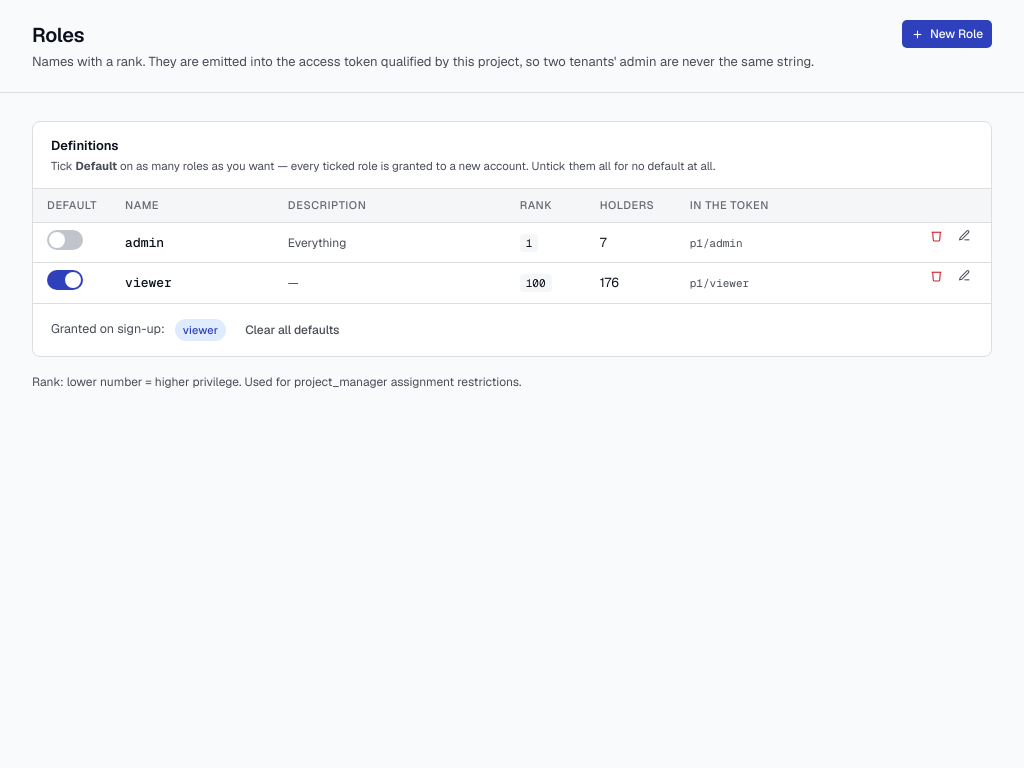
Test: creating a role › normalises the name the way the backend stores it
Expected: the text "admin" is shown, [125,234,164,251]
Click the button "New Role". click: (947, 34)
box: [902,20,992,48]
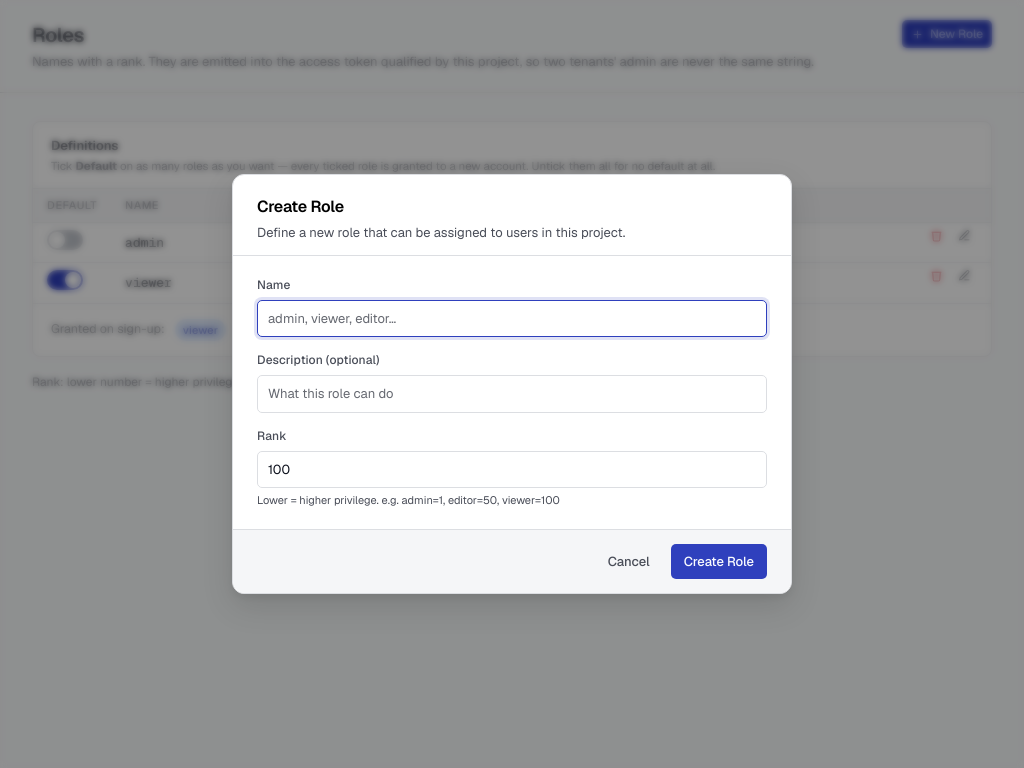
Type "Content Editor" into the field labelled "Name". click: (512, 318)
box: [257,300,767,337]
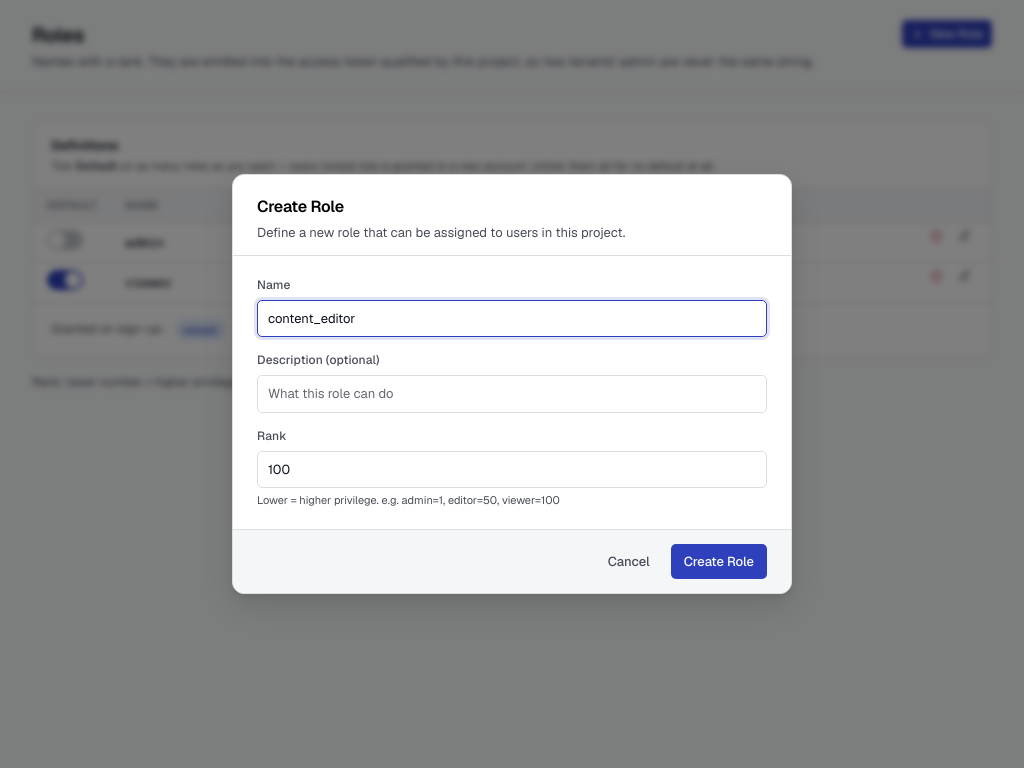
Expected: the field labelled "Name" holds "content_editor", [257,300,767,337]
